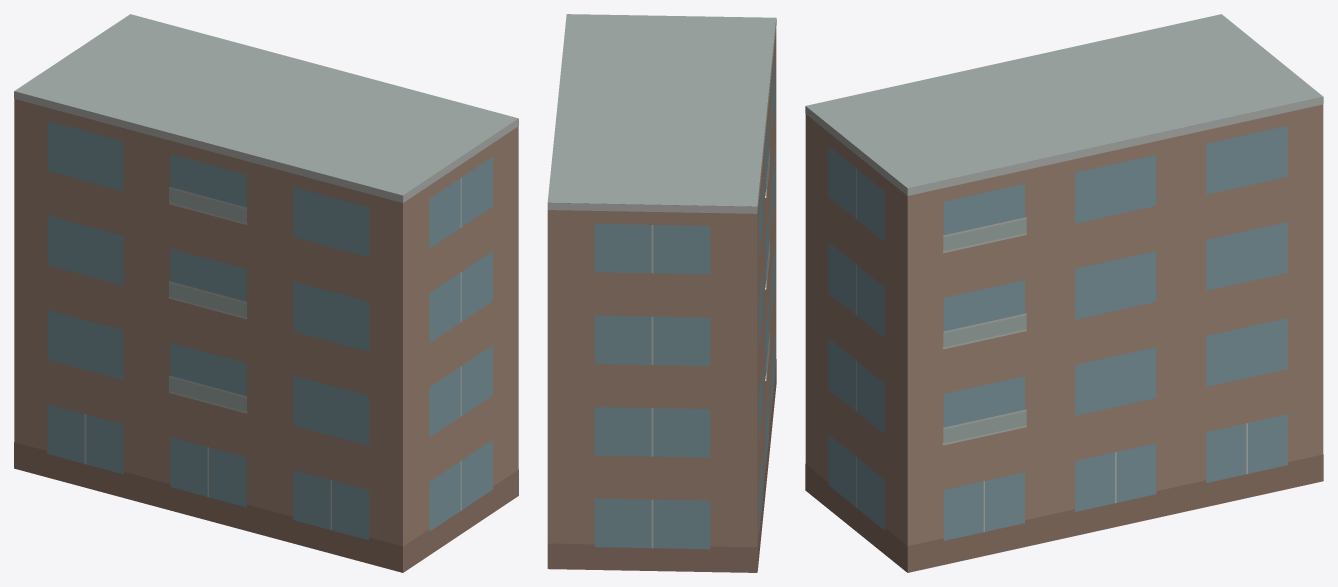
Rendered from residential-b6a383e3-c92f-4b8b-8120-10c39d85b382.glb.
The picture shows the model from 3 angles, left to right: view 1: azimuth 30°, elevation 25°; view 2: azimuth 150°, elevation 25°; view 3: azimuth 270°, elevation 25°; orthographic projection. The views are drawn at different scales.
Parts seen in each view (by area): view 1: residential-b6a383e3-c92f-4b8b-8120-10c39d85b382.tmp; view 2: residential-b6a383e3-c92f-4b8b-8120-10c39d85b382.tmp; view 3: residential-b6a383e3-c92f-4b8b-8120-10c39d85b382.tmp.
Boxes of the visible parts, box(x1,y1,x2,y2) form: residential-b6a383e3-c92f-4b8b-8120-10c39d85b382.tmp: box(14, 14, 518, 572); residential-b6a383e3-c92f-4b8b-8120-10c39d85b382.tmp: box(547, 14, 776, 572); residential-b6a383e3-c92f-4b8b-8120-10c39d85b382.tmp: box(805, 14, 1323, 572).
Bounding box in the file's own units: 11.87 × 12.2 × 14.91.
